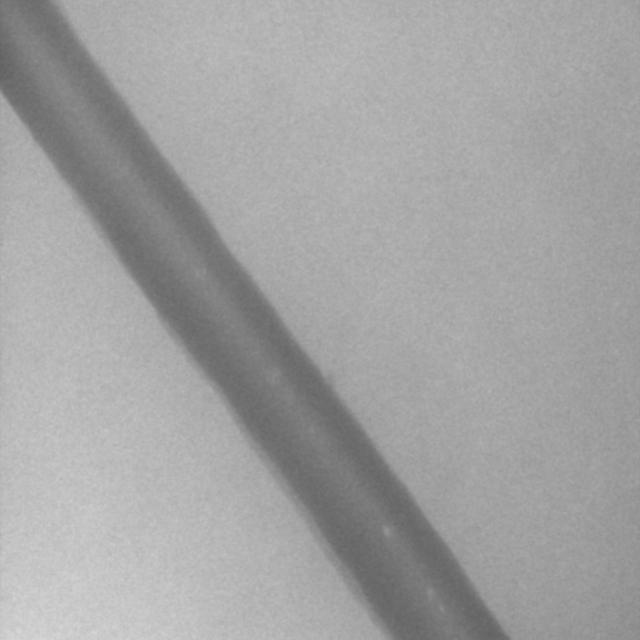air hole: (380, 522, 393, 541)
